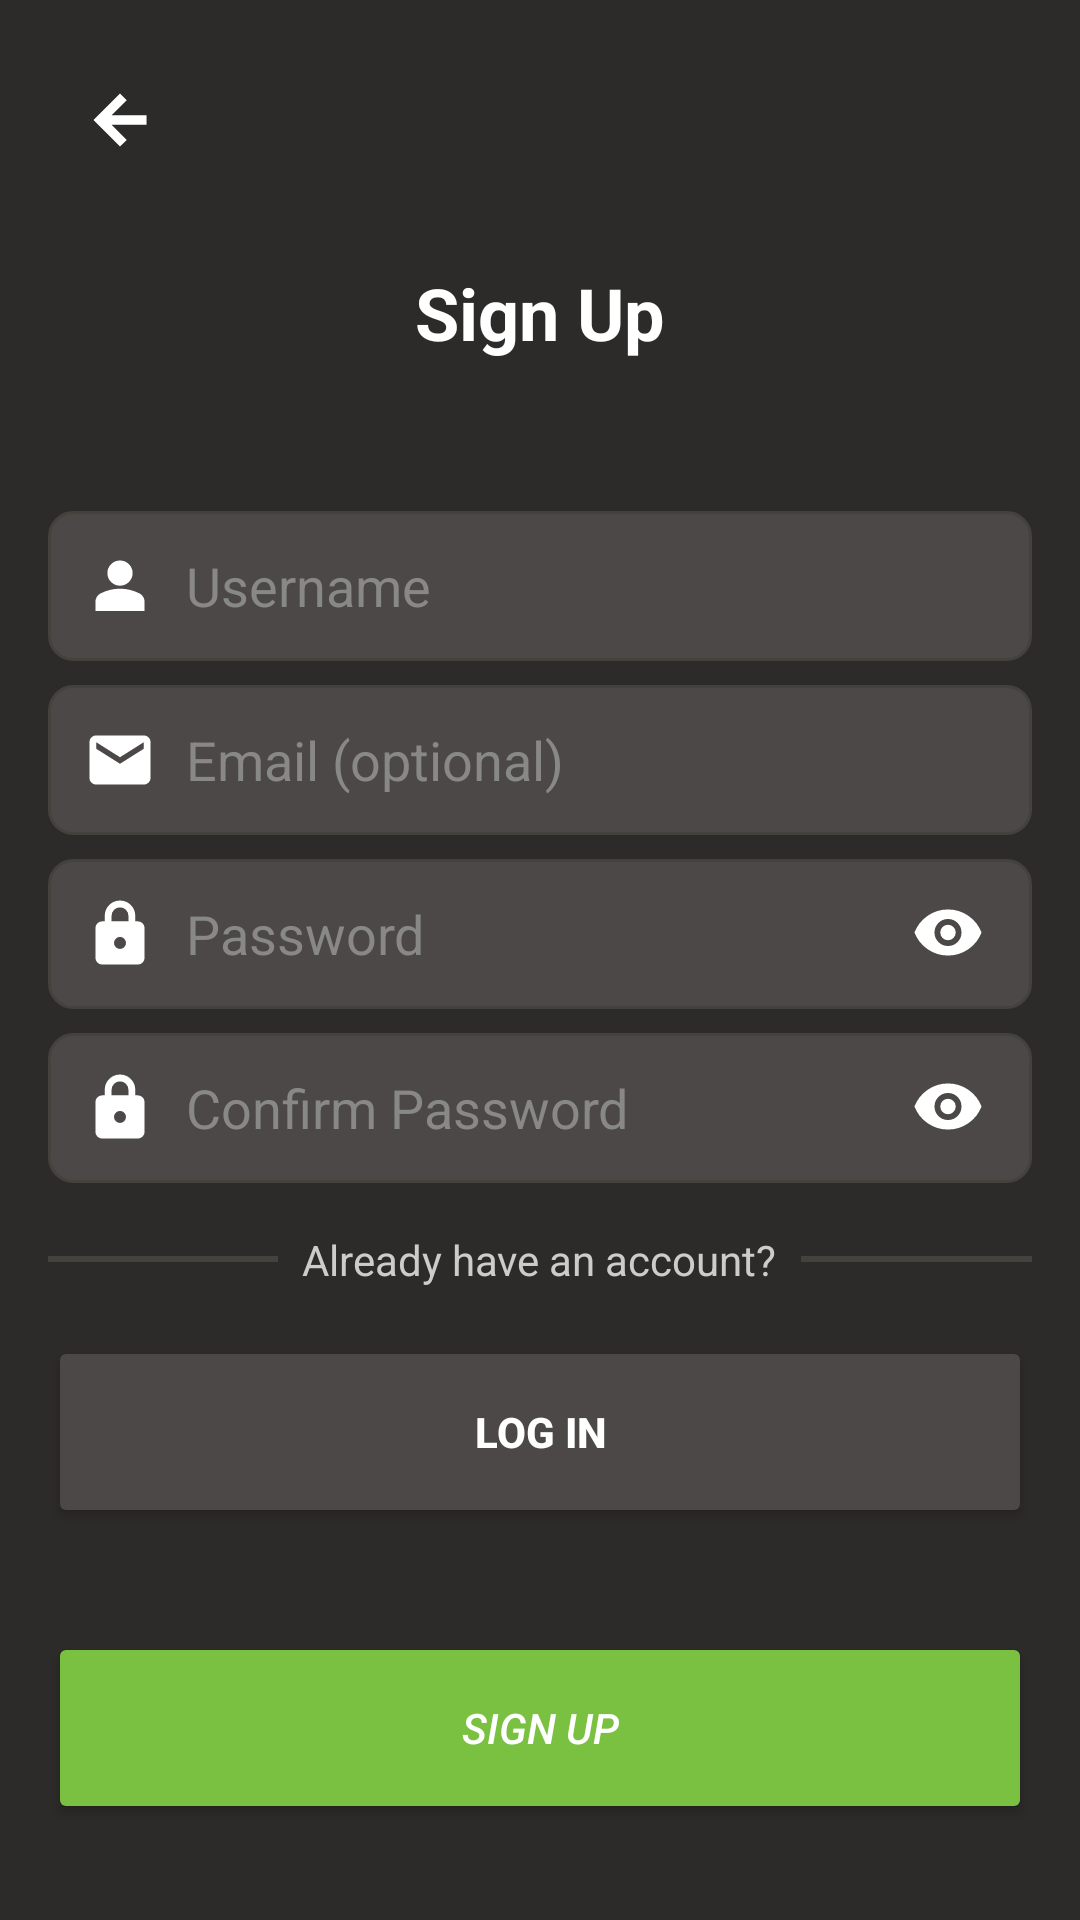

Point at icon controls on the screen. Image size 1080w x 1920h, points as [x,y].
Back: [120,120]
